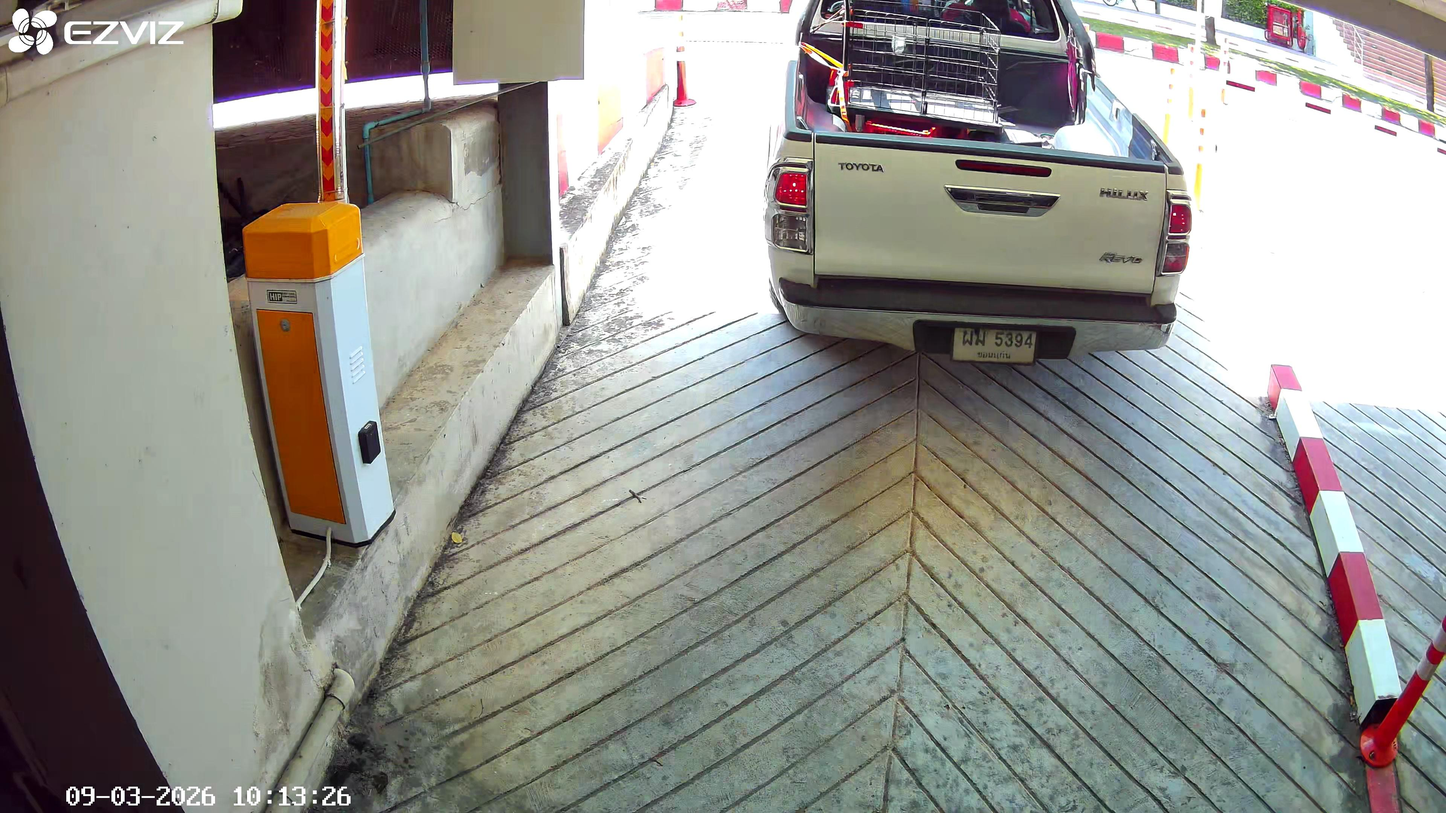car: (762, 0, 1196, 368)
license-plate: (948, 319, 1042, 368)
